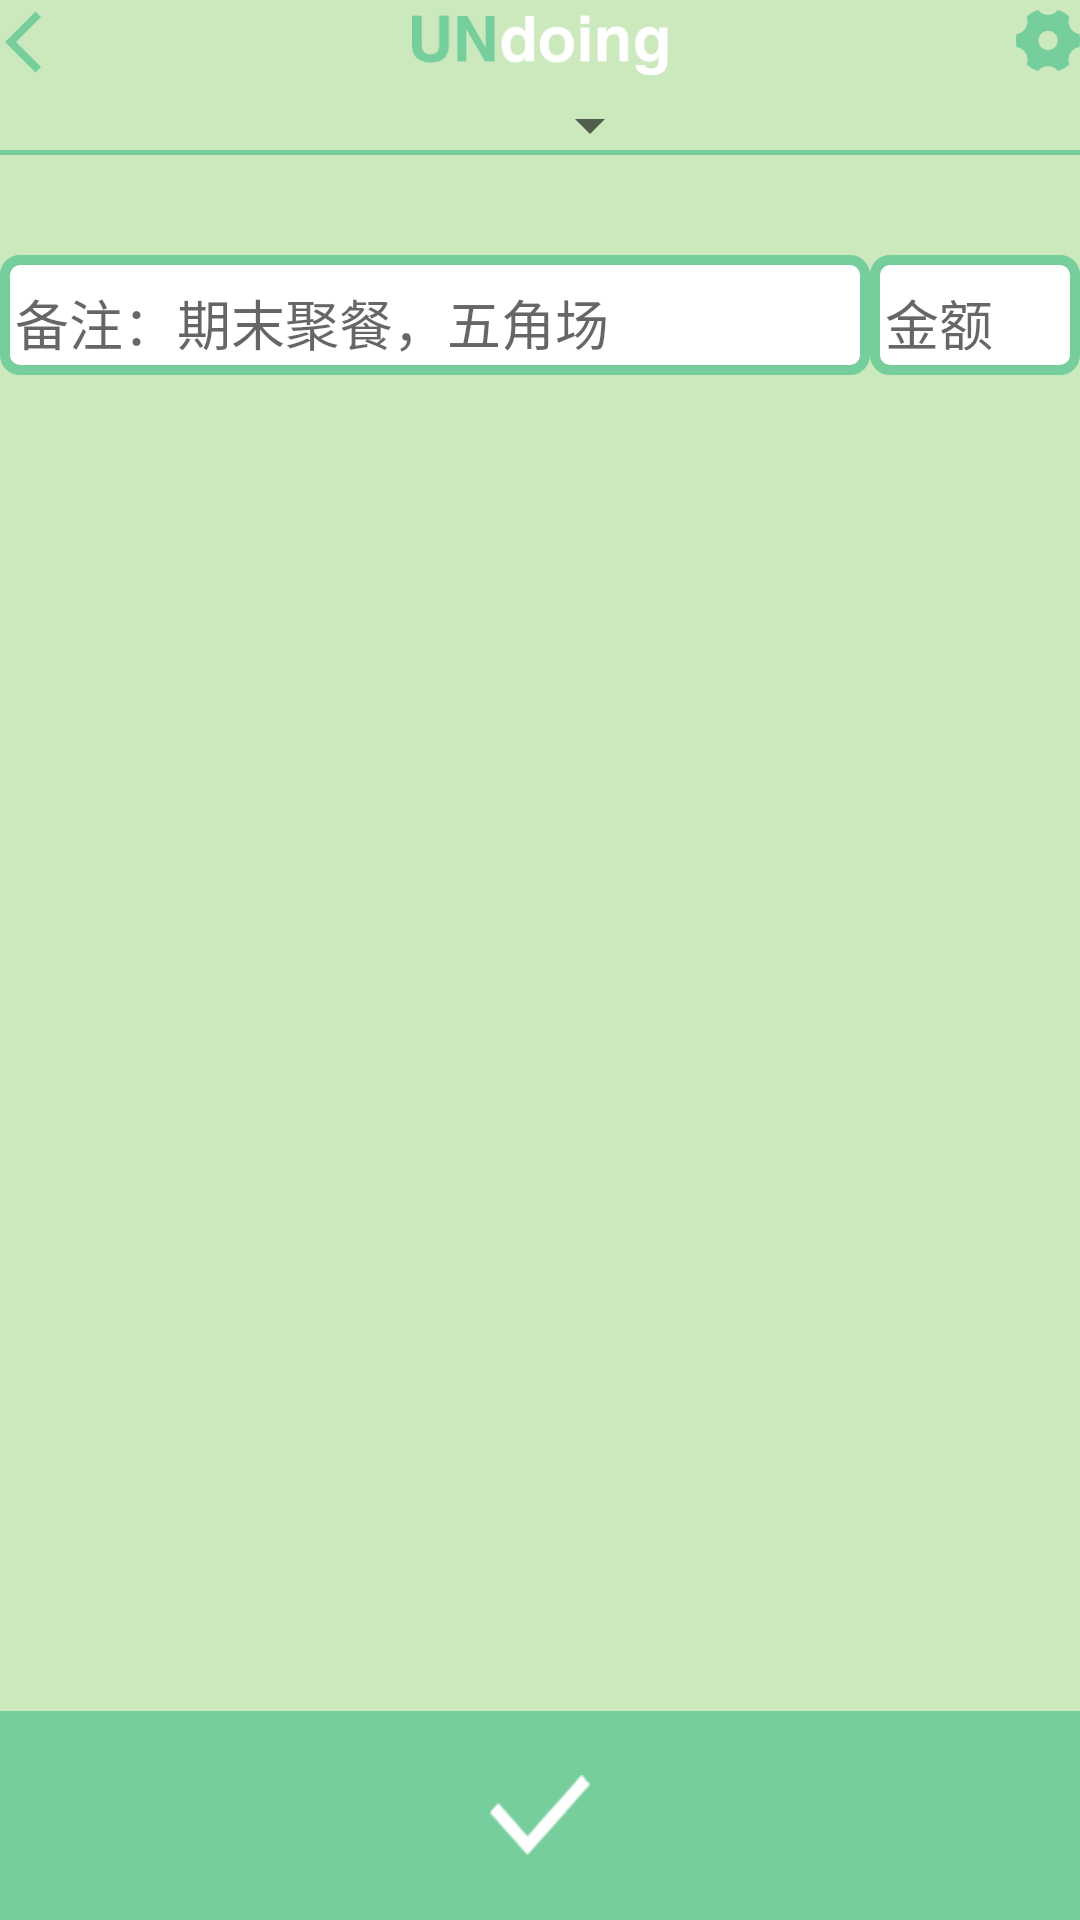

Screen size 1080 × 1920. Icon name, then its center in pixels as [x,y]:
back: [23,42]
setting: [1048,40]
sure: [540,1815]
